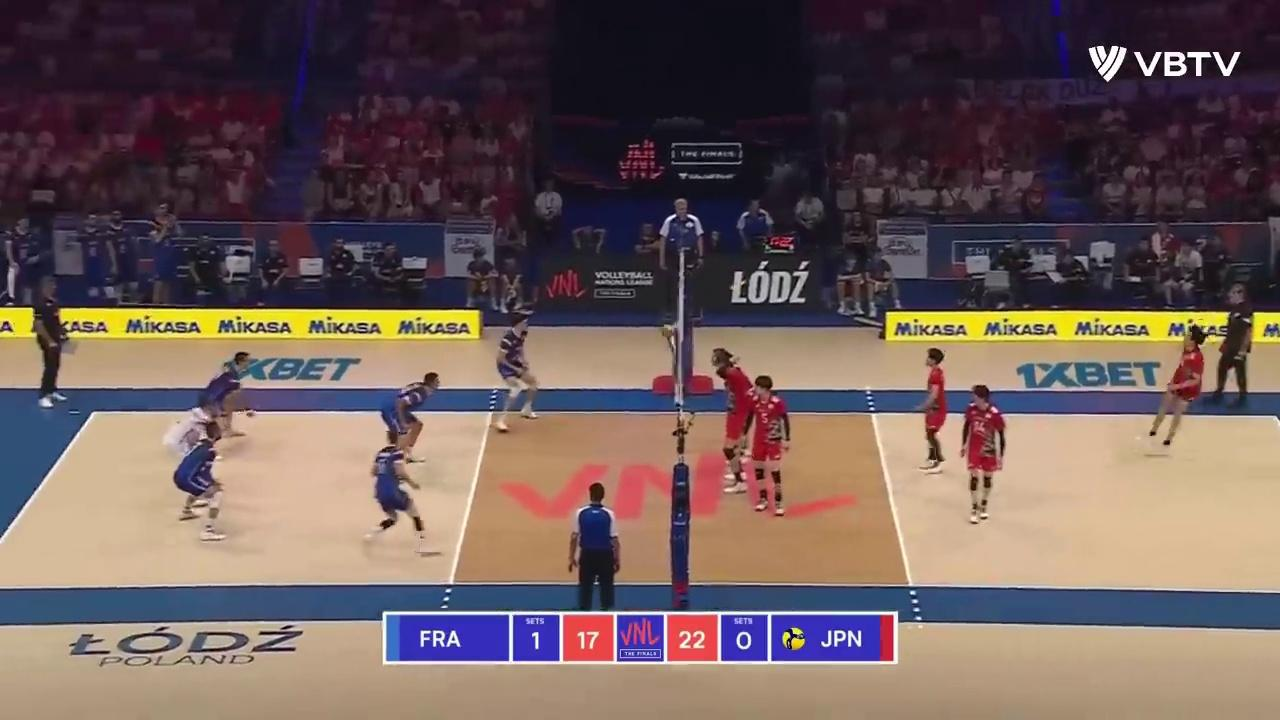ball: (660, 325, 672, 338)
